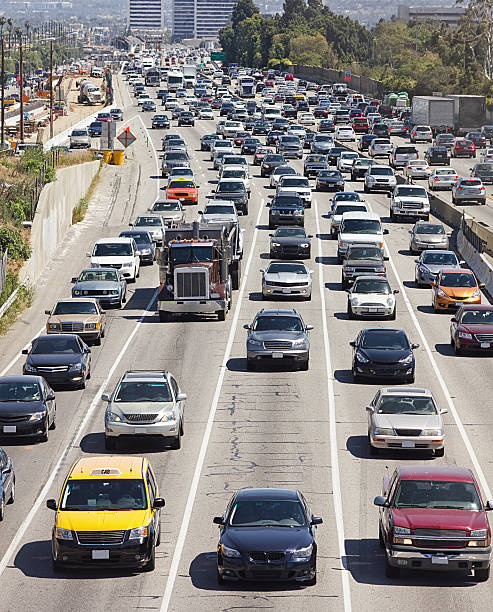car: (386, 466, 492, 593), (52, 457, 157, 567), (215, 491, 314, 583), (104, 371, 183, 447), (370, 392, 443, 457), (27, 336, 91, 394), (245, 313, 311, 367), (1, 378, 53, 445), (351, 328, 416, 380), (46, 299, 104, 342), (450, 301, 493, 358), (90, 237, 141, 283), (74, 268, 134, 307), (340, 215, 385, 262), (434, 270, 480, 315), (351, 279, 398, 320), (388, 183, 433, 224), (262, 263, 311, 299), (339, 243, 381, 283), (418, 249, 458, 287), (410, 221, 450, 259), (269, 226, 312, 260), (119, 233, 153, 267), (268, 195, 303, 228), (331, 199, 364, 231), (165, 179, 200, 208), (219, 182, 250, 214), (277, 173, 311, 199), (454, 177, 484, 206), (218, 158, 247, 186), (150, 200, 181, 225), (160, 151, 188, 176), (365, 163, 392, 188), (277, 134, 302, 159), (431, 167, 457, 190), (301, 155, 328, 177), (316, 171, 342, 193), (66, 130, 89, 154), (425, 145, 452, 165), (392, 146, 416, 167), (370, 140, 392, 161), (261, 154, 284, 174), (311, 134, 332, 154), (412, 125, 433, 144), (408, 162, 429, 179), (335, 125, 355, 142), (351, 116, 370, 132), (177, 110, 194, 127), (152, 115, 169, 130), (197, 106, 214, 121), (242, 137, 257, 154), (200, 135, 214, 149), (110, 107, 122, 123), (300, 114, 314, 127)
truck: (161, 232, 229, 316), (411, 95, 451, 134), (454, 95, 487, 138)
